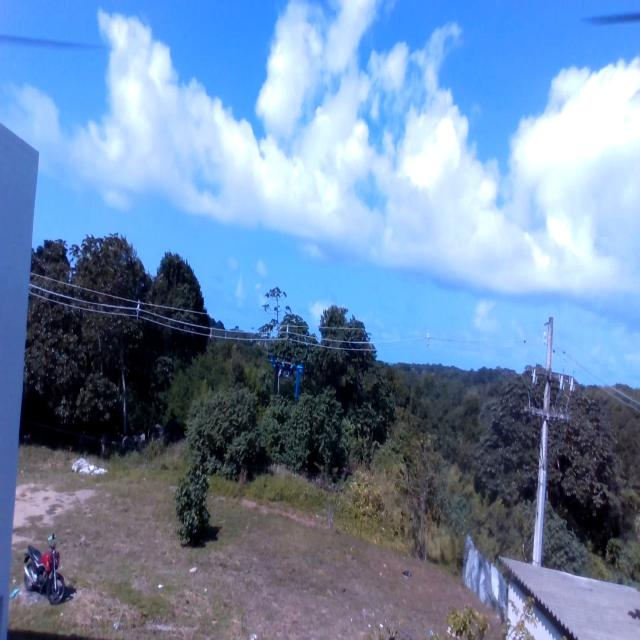-uav-: (261, 343, 312, 407)
